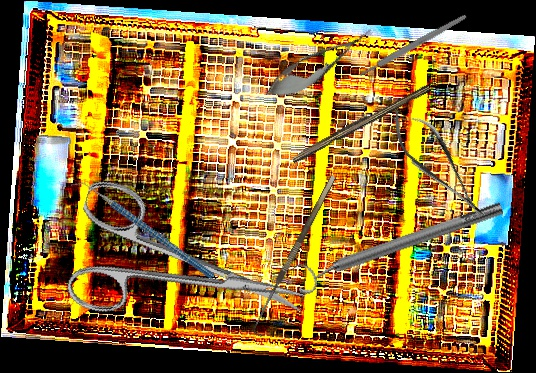Chopper: (70, 146, 215, 315)
Fixation Ring: (290, 193, 508, 297)
Hook Surgical: (248, 174, 345, 338)
Iris Scissors: (55, 176, 321, 369)
Micro Scissor: (379, 97, 497, 231), (259, 17, 380, 110)
Scalpel Handle: (289, 80, 432, 166), (357, 12, 469, 79)
